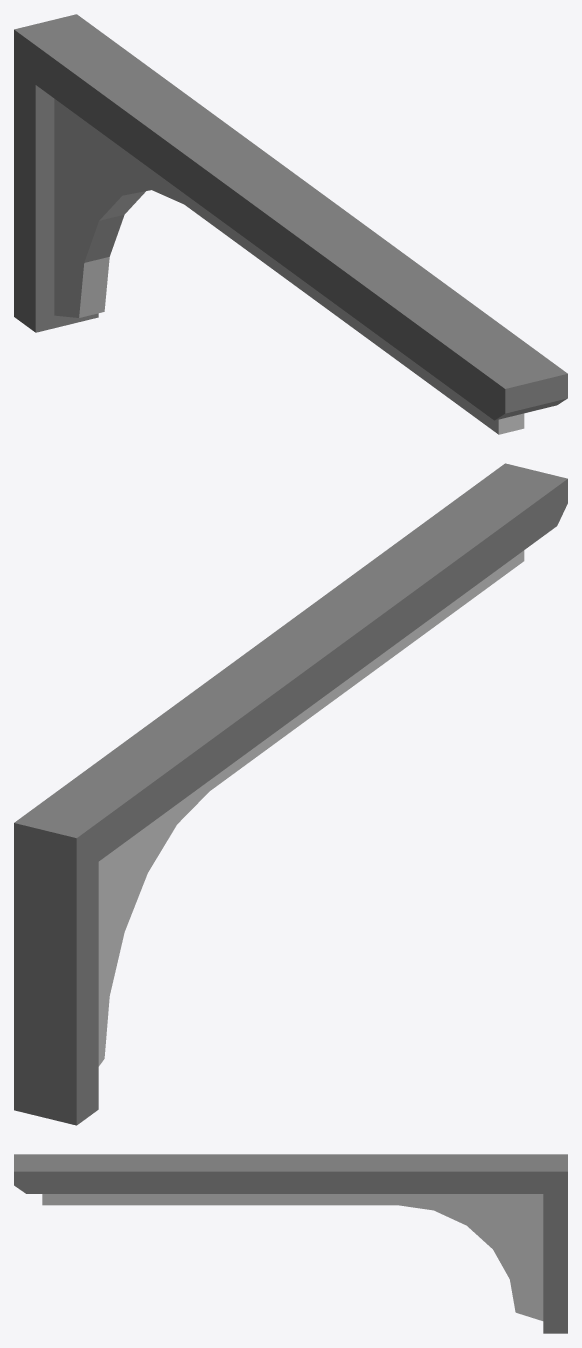
The model's file is Wall_Shelf_Support.obj.
3 views of the same model, one above another, from view 1: azimuth 30°, elevation 25°; view 2: azimuth 150°, elevation 25°; view 3: azimuth 270°, elevation 25° (orthographic). The views are drawn at different scales.
Visible parts, largest first — view 1: Wall_Shelf_Support; view 2: Wall_Shelf_Support; view 3: Wall_Shelf_Support.
Boxes of the visible parts, bbox=[...] form: Wall_Shelf_Support: bbox=[14, 14, 567, 434]; Wall_Shelf_Support: bbox=[14, 463, 567, 1125]; Wall_Shelf_Support: bbox=[14, 1154, 567, 1333].
Bounding box in the file's own units: 0.0266 × 0.1164 × 0.3606.
